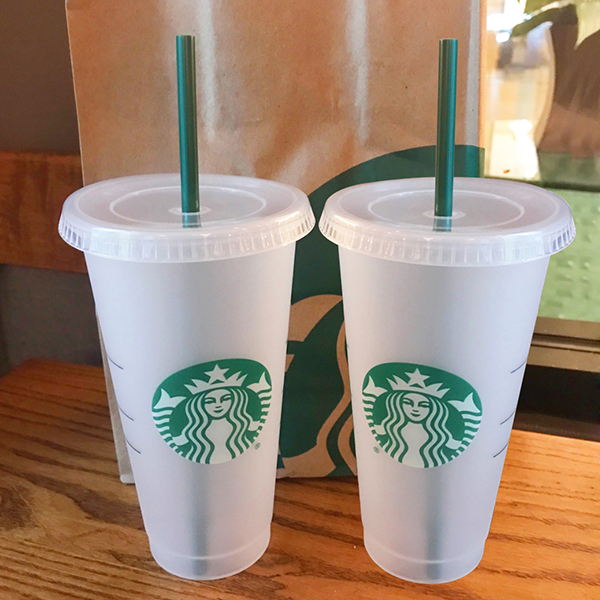Tumbler: (322, 33, 580, 577), (56, 37, 312, 579)
